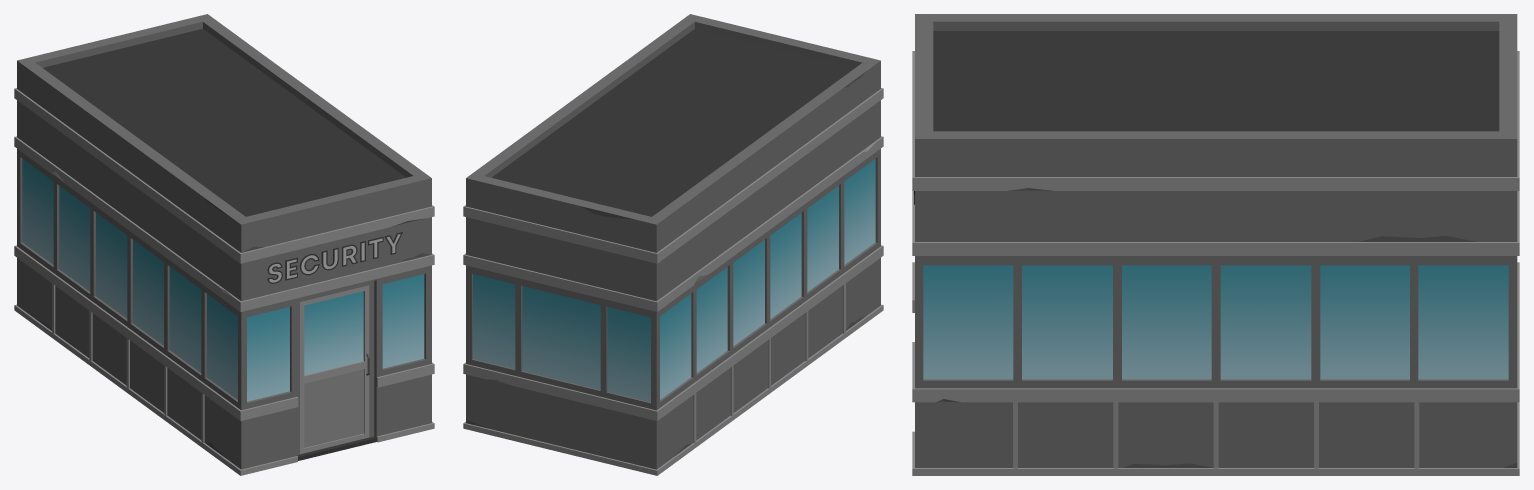
The model's file is SM_Buildings_Port_03.fbx.
3 views of the same model, side by side, from view 1: azimuth 30°, elevation 25°; view 2: azimuth 150°, elevation 25°; view 3: azimuth 270°, elevation 25° (orthographic). The views are drawn at different scales.
Parts seen in each view (by area): view 1: SM_Buildings_Port_03; view 2: SM_Buildings_Port_03; view 3: SM_Buildings_Port_03.
Part boxes in pixels (bbox=[...]): SM_Buildings_Port_03: bbox=[14, 14, 434, 475]; SM_Buildings_Port_03: bbox=[463, 14, 883, 475]; SM_Buildings_Port_03: bbox=[912, 14, 1519, 475].
Size of the model in its own units: 2.67 by 3.3 by 5.4.
